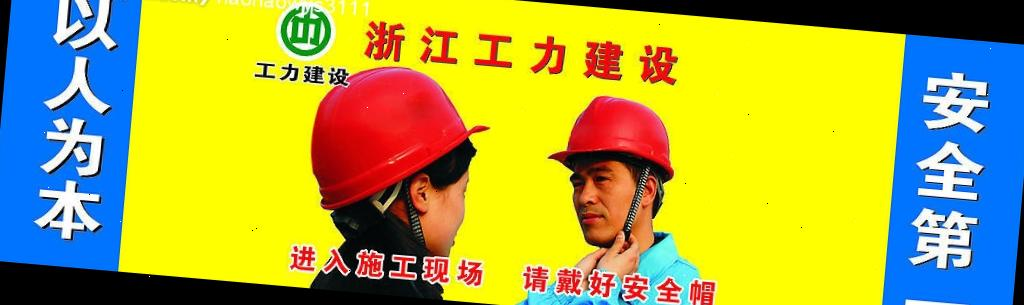helmet: (310, 54, 472, 240), (544, 88, 688, 188)
